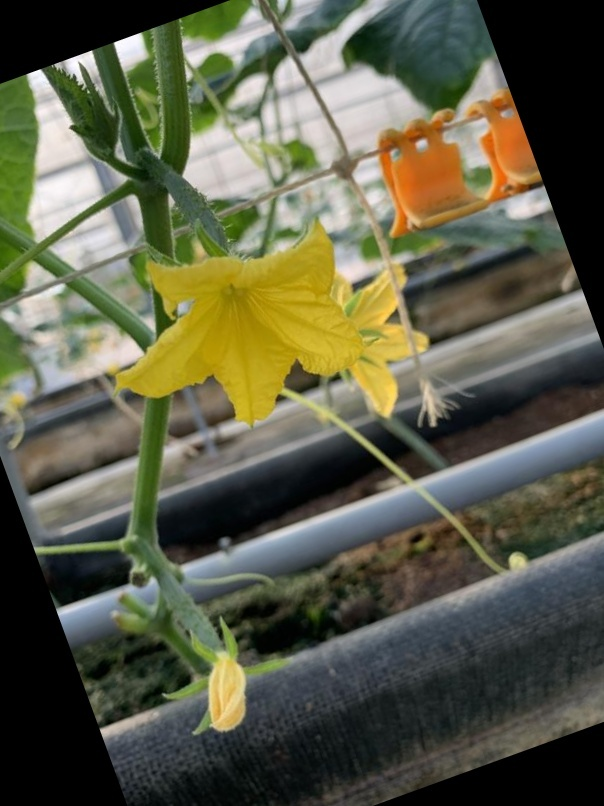flowering: (71, 166, 363, 434)
